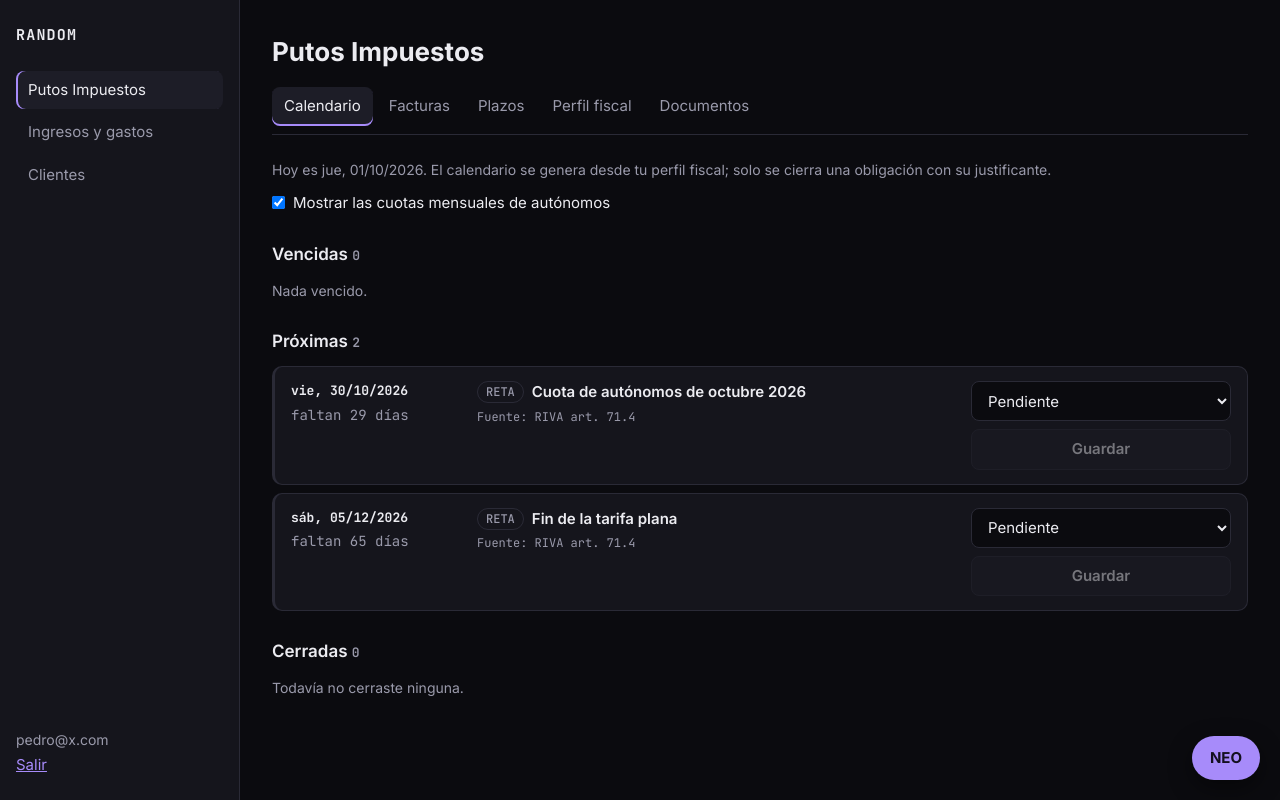
Scenario: calendario › permite ocultar las cuotas mensuales, pero no el fin de la tarifa plana
Expected: the text "Cuota de autónomos de octubre 2026" is shown, top-left (532, 382), bottom-right (806, 401)
Click the checkbox labelled "Mostrar las cuotas mensuales de autónomos" at (278, 203), box top-left (272, 196), bottom-right (285, 209)
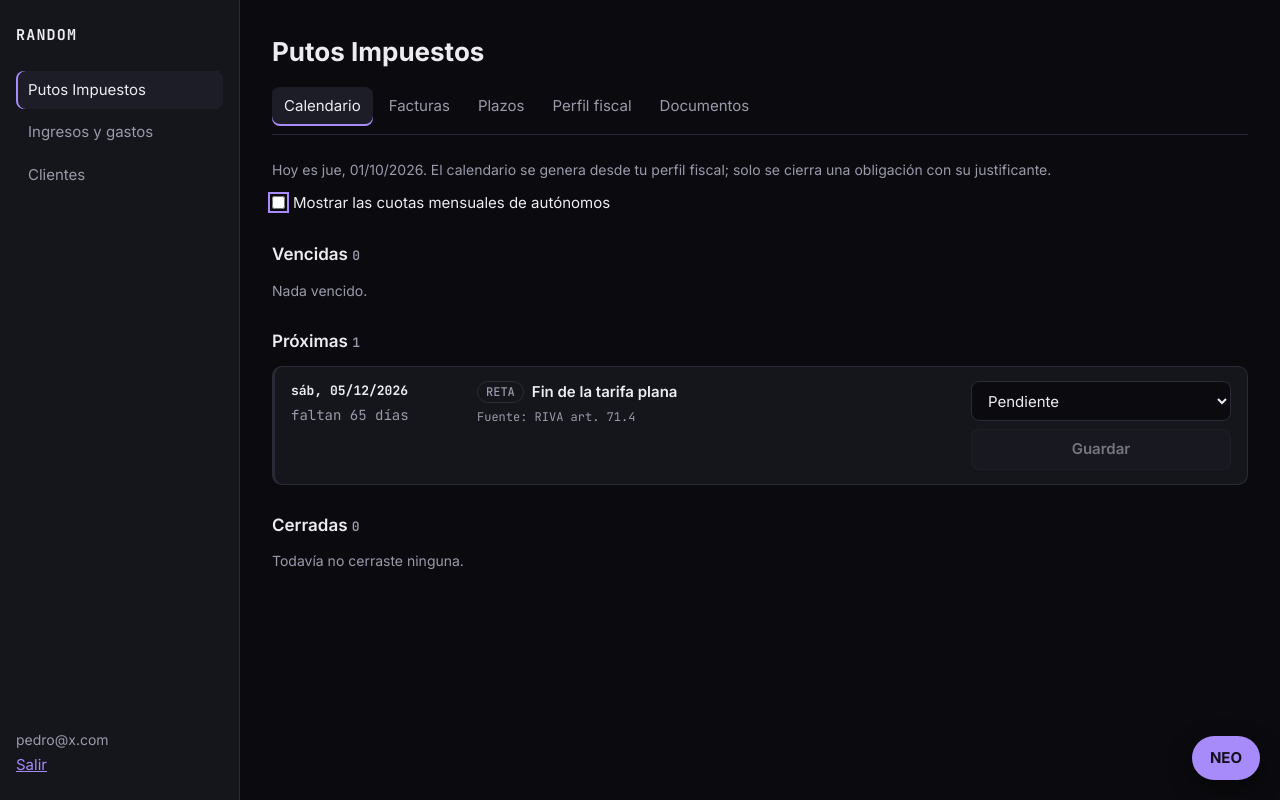
Expected: the text "Fin de la tarifa plana" is shown, top-left (532, 382), bottom-right (677, 401)
Result: the text "Cuota de autónomos de octubre 2026" is gone
